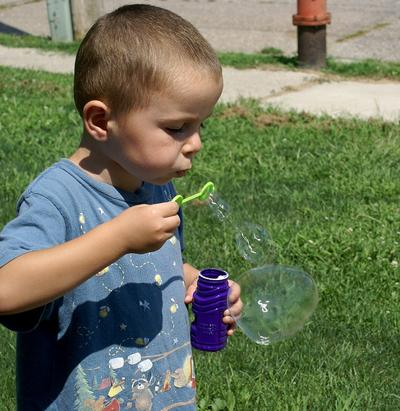person: (2, 6, 246, 411)
